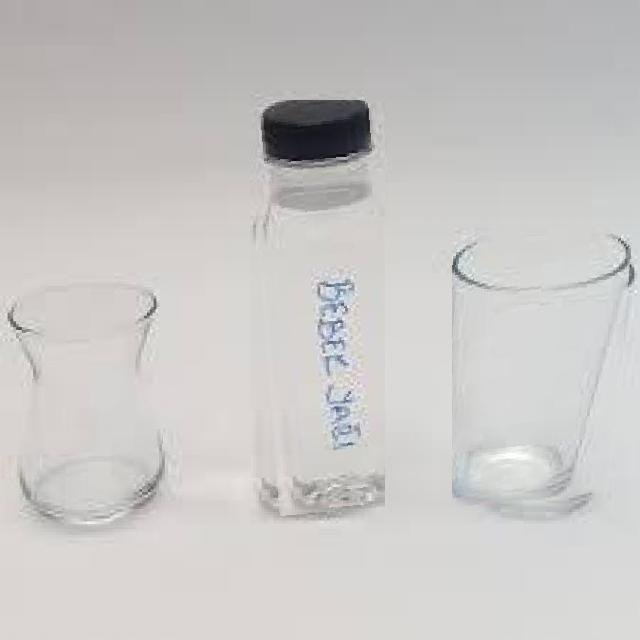Glass: (246, 100, 385, 516), (452, 234, 634, 510), (4, 278, 172, 530)
